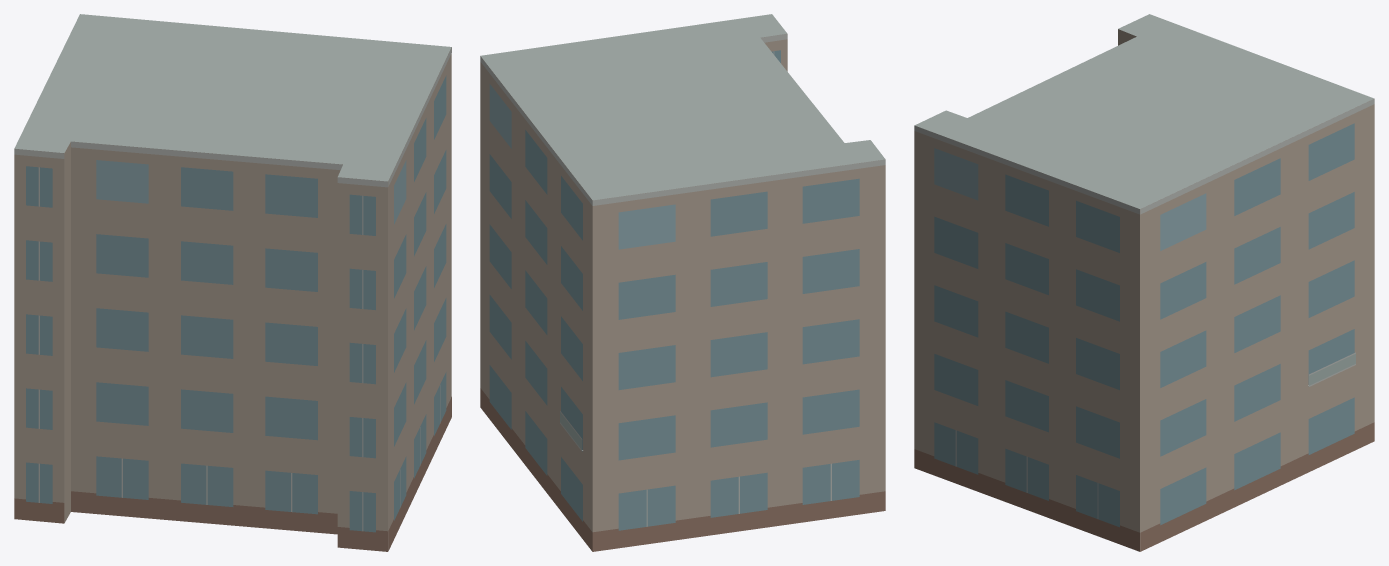
File: survey-upis-32533110.glb
3 renders of one model, left to right at view 1: azimuth 30°, elevation 25°; view 2: azimuth 150°, elevation 25°; view 3: azimuth 270°, elevation 25°, orthographic. The views are drawn at different scales.
Parts seen in each view (by area): view 1: survey-upis-32533110.tmp; view 2: survey-upis-32533110.tmp; view 3: survey-upis-32533110.tmp.
Boxes of the visible parts, <box> form: survey-upis-32533110.tmp: <box>14,14,451,551</box>; survey-upis-32533110.tmp: <box>480,14,885,551</box>; survey-upis-32533110.tmp: <box>914,14,1374,551</box>.
Size of the model in its own units: 18.64 by 15.25 by 18.56.
